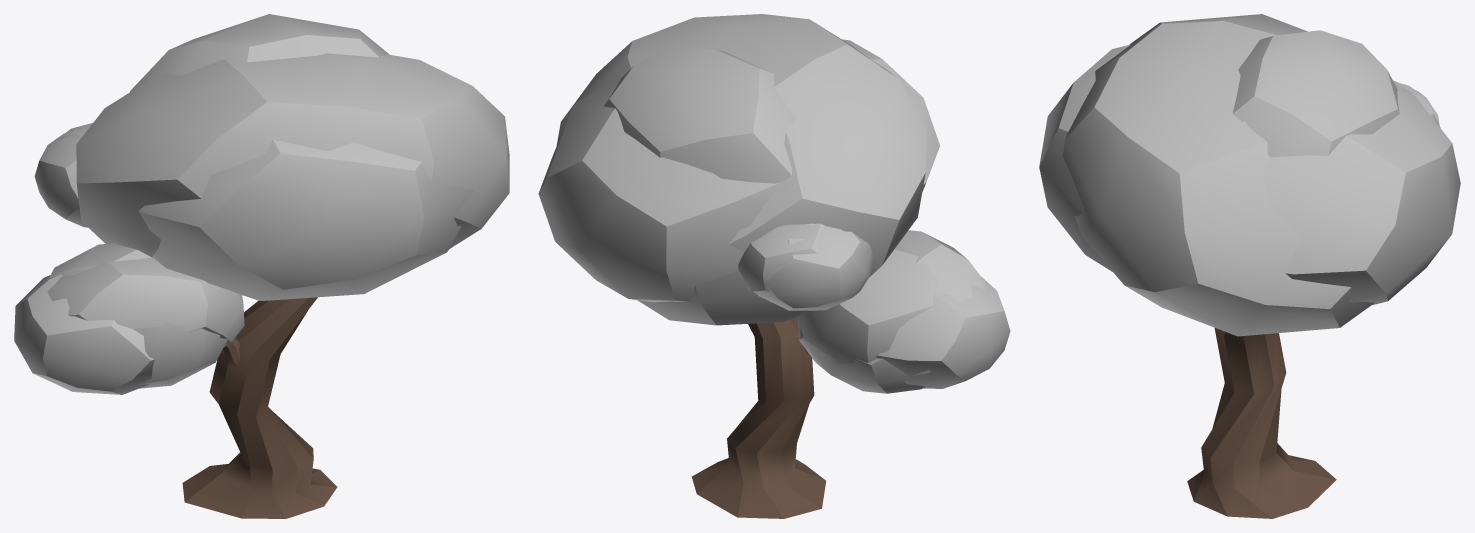
File: Tree 1.fbx
The picture shows the model from 3 angles, left to right: view 1: azimuth 30°, elevation 25°; view 2: azimuth 150°, elevation 25°; view 3: azimuth 270°, elevation 25°; orthographic projection. The views are drawn at different scales.
Parts seen in each view (by area): view 1: pPlatonic2, pPlatonic5, pCylinder1, pPlatonic3, pPlatonic1, pPlatonic8, pPlatonic6, pPlatonic7; view 2: pPlatonic2, pPlatonic5, pPlatonic8, pCylinder1, pPlatonic1, pPlatonic6, pPlatonic7, pPlatonic3, pPlatonic9; view 3: pPlatonic2, pPlatonic5, pPlatonic8, pCylinder1.
Boxes of the visible parts, x1=… form: pPlatonic2: x1=76, y1=53, x2=509, y2=257; pPlatonic5: x1=138, y1=56, x2=474, y2=300; pCylinder1: x1=182, y1=297, x2=337, y2=518; pPlatonic3: x1=47, y1=257, x2=244, y2=347; pPlatonic1: x1=14, y1=274, x2=154, y2=394; pPlatonic8: x1=130, y1=14, x2=389, y2=299; pPlatonic6: x1=49, y1=243, x2=235, y2=388; pPlatonic7: x1=34, y1=125, x2=87, y2=227; pPlatonic2: x1=556, y1=14, x2=927, y2=325; pPlatonic5: x1=538, y1=39, x2=939, y2=302; pPlatonic8: x1=604, y1=47, x2=796, y2=183; pCylinder1: x1=692, y1=317, x2=826, y2=518; pPlatonic1: x1=876, y1=275, x2=1010, y2=388; pPlatonic6: x1=797, y1=246, x2=938, y2=363; pPlatonic7: x1=757, y1=223, x2=872, y2=310; pPlatonic3: x1=798, y1=230, x2=985, y2=393; pPlatonic9: x1=738, y1=223, x2=825, y2=295; pPlatonic2: x1=1063, y1=14, x2=1374, y2=336; pPlatonic5: x1=1039, y1=44, x2=1460, y2=305; pPlatonic8: x1=1232, y1=30, x2=1399, y2=157; pCylinder1: x1=1187, y1=328, x2=1336, y2=518.
Size of the model in its own units: 8.97 by 8.24 by 6.98.
